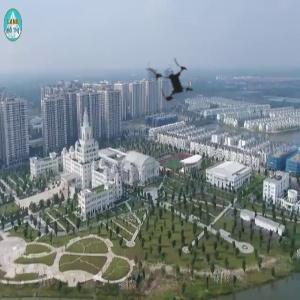drone: (131, 36, 224, 129)
